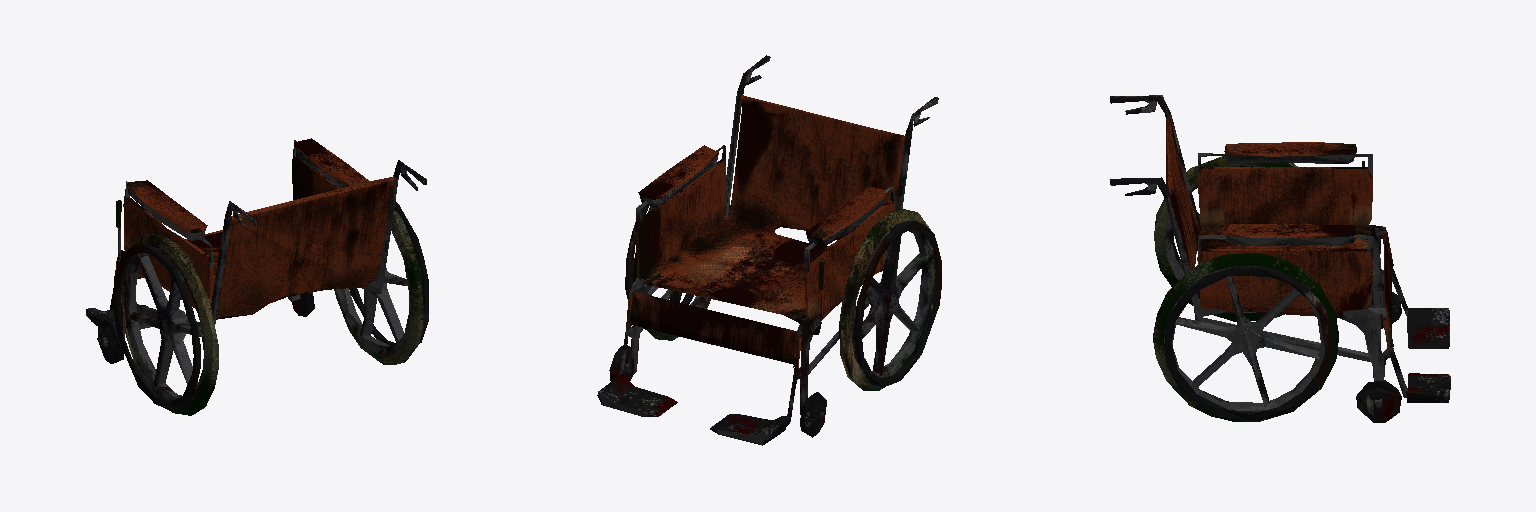
3 views of the same model, side by side, from view 1: azimuth 30°, elevation 25°; view 2: azimuth 150°, elevation 25°; view 3: azimuth 270°, elevation 25° (orthographic).
Visible parts, largest first — view 1: Object_2; view 2: Object_2; view 3: Object_2.
Part boxes in pixels (x1,y1,x2,y2): Object_2: (86,138,428,415); Object_2: (597,55,941,445); Object_2: (1110,95,1450,422).
Bounding box in the file's own units: 13.75 × 13.31 × 17.26.
2 materials, 1 textured.